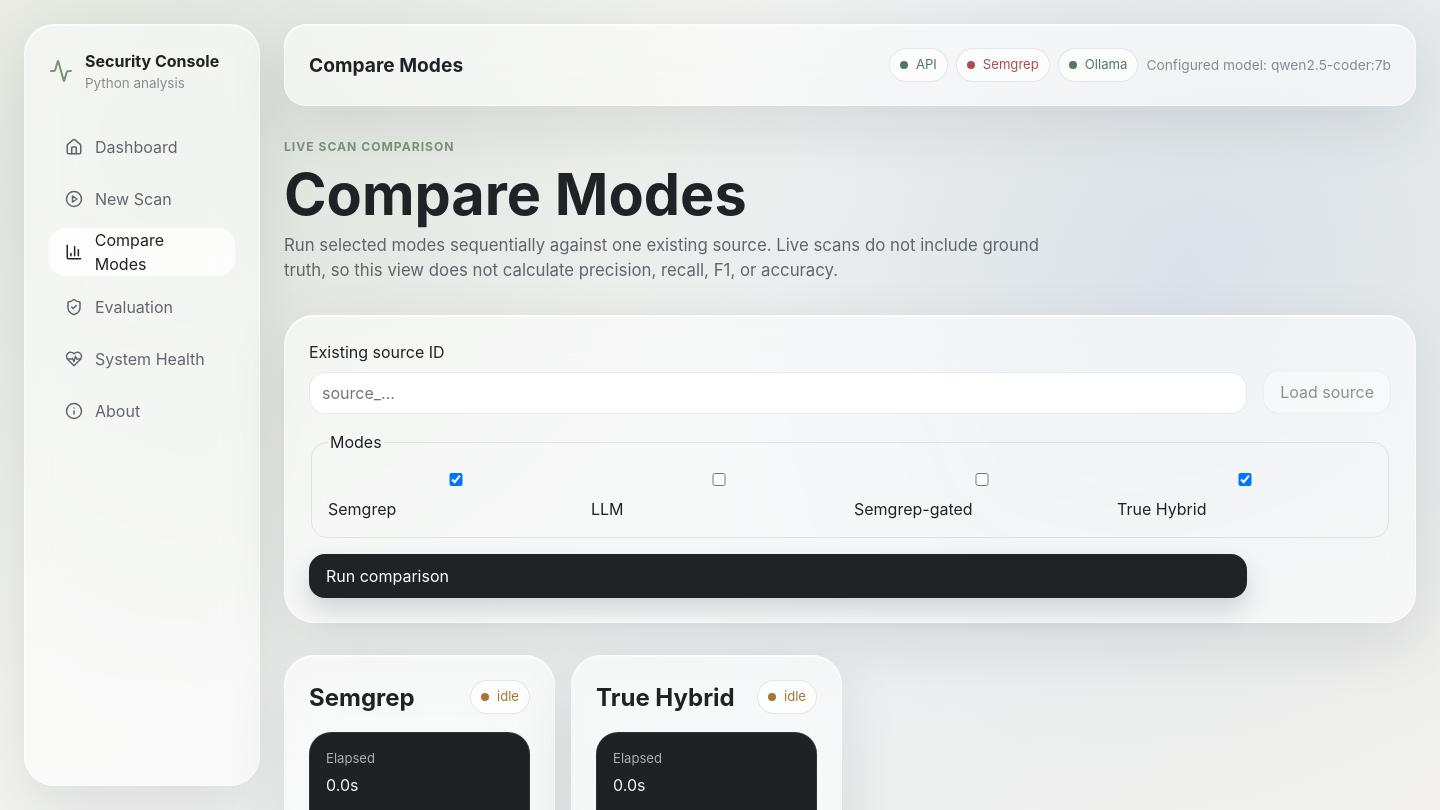
Test case: Phase 4 pages › preserves successful Compare Modes results when another mode fails and allows retry
Type "src_compare" into the field labelled "Existing source ID".
click(778, 393); type("src_compare")  # box [309,372,1247,414]
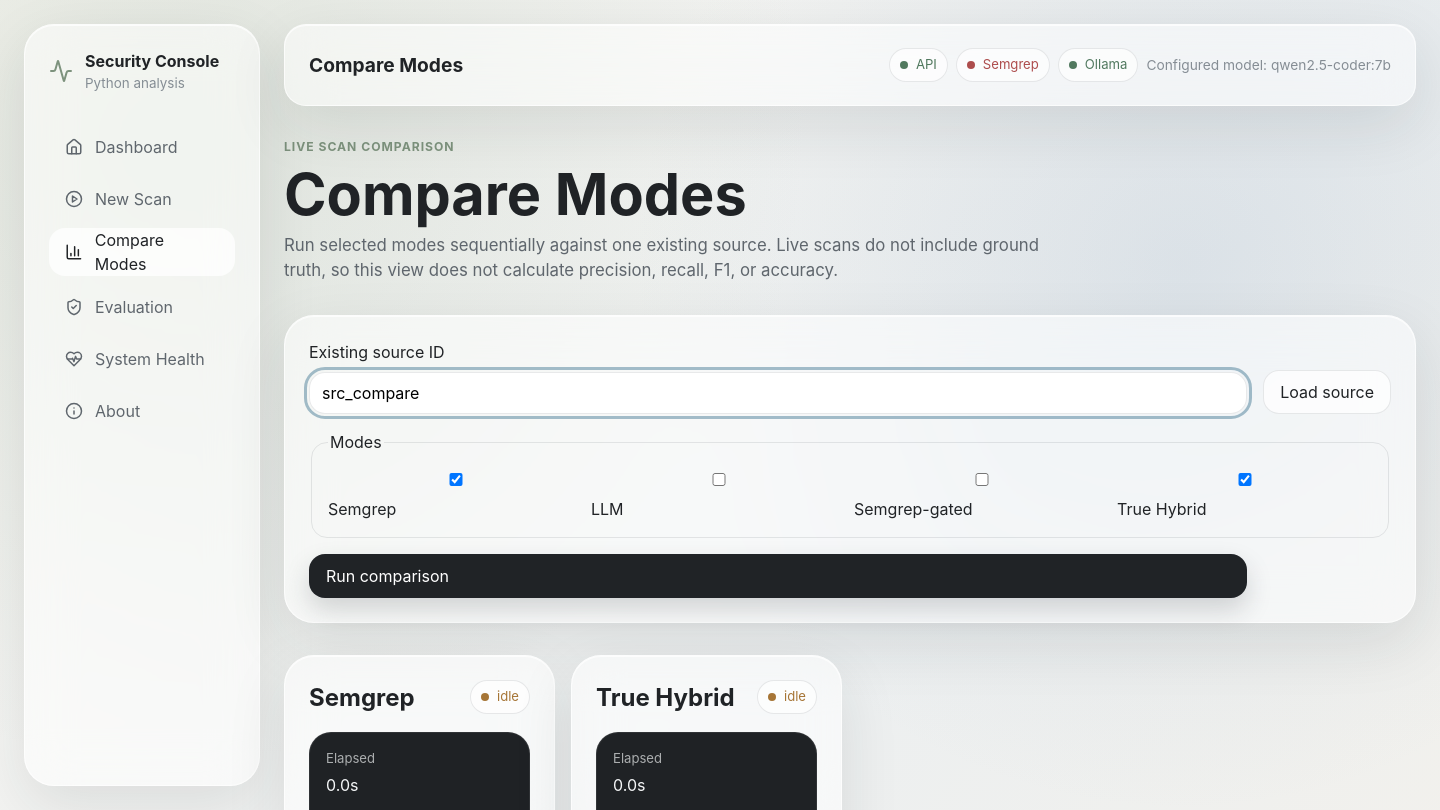
Click the button "Load source".
click(1327, 392)  # box [1263,370,1391,414]
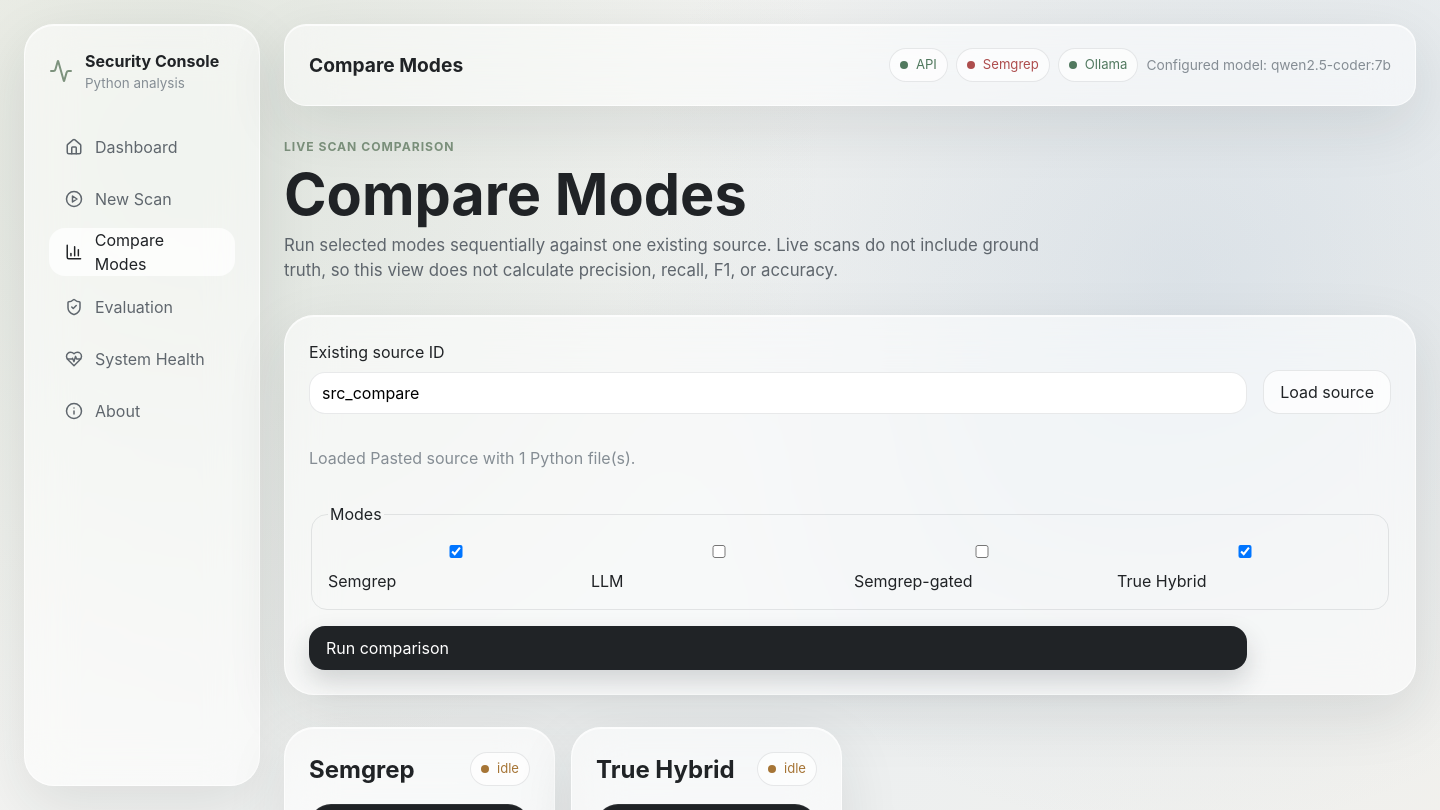
Expected: the text "Loaded Pasted source with 1 Python file(s)." is shown, [309,448,635,468]
Click the button "Run comparison".
click(387, 648)  # box [309,626,1247,670]
(page scrolled)
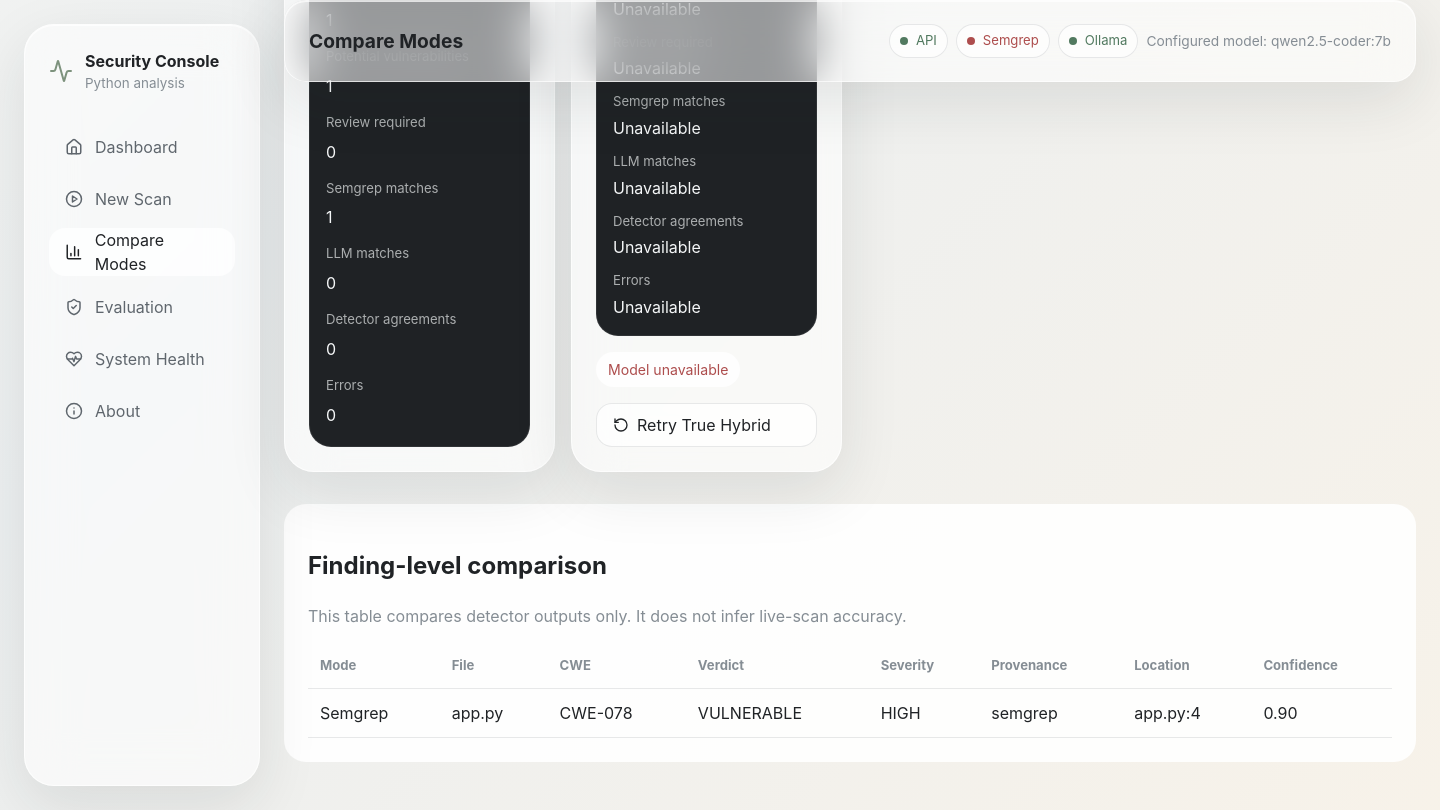
Expected: the text "Model unavailable" is shown, [596,352,740,387]
Expected: the text "CWE-078" is shown, [548,688,686,737]
Click the button "Retry True Hybrid".
click(706, 425)  # box [596,403,817,447]
(page scrolled)
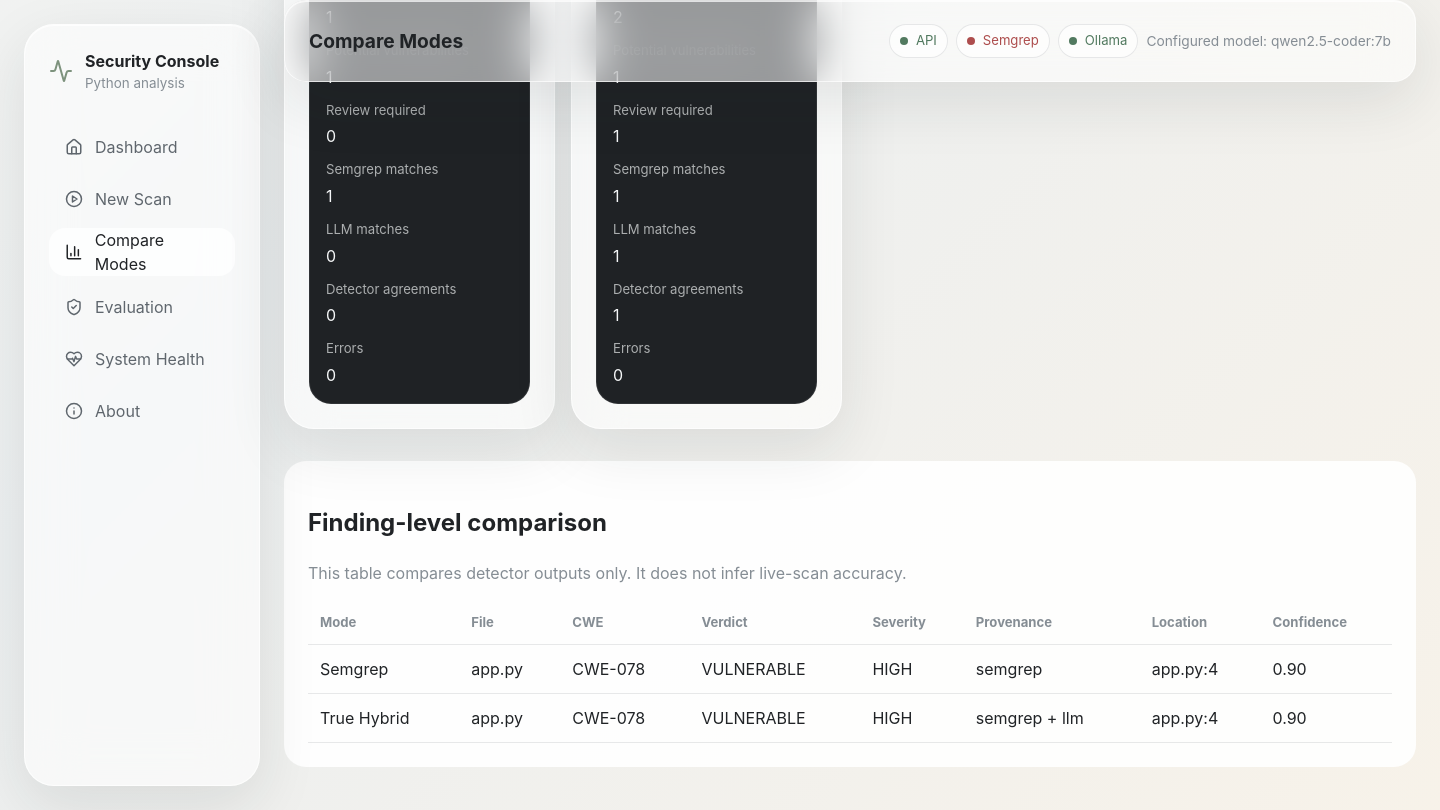
Expected: the text "Model unavailable" is gone
